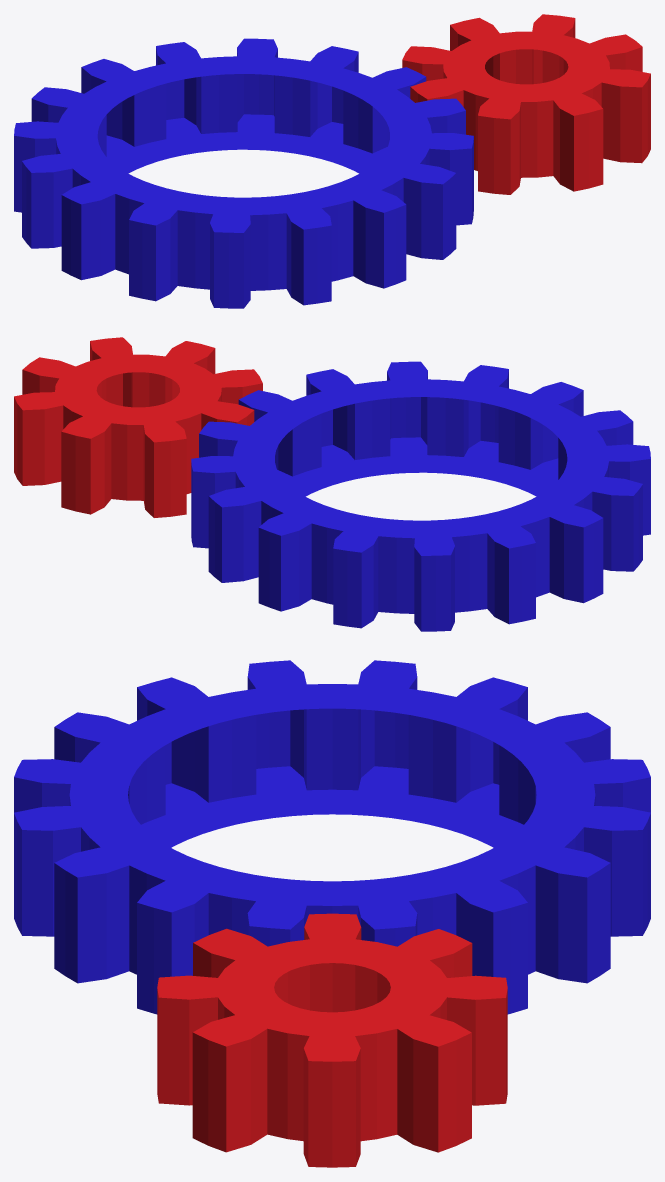
File: engranes.glb
3 renders of one model, top to bottom at view 1: azimuth 30°, elevation 25°; view 2: azimuth 150°, elevation 25°; view 3: azimuth 270°, elevation 25°, orthographic. The views are drawn at different scales.
Parts seen in each view (by area): view 1: Gear, Gear.001; view 2: Gear, Gear.001; view 3: Gear, Gear.001.
Part boxes in pixels (box(x1,y1,x2,y2)): Gear: box(14, 38, 473, 308); Gear.001: box(402, 14, 650, 194); Gear: box(191, 361, 650, 631); Gear.001: box(14, 337, 262, 517); Gear: box(14, 660, 650, 1014); Gear.001: box(157, 913, 507, 1167).
Size of the model in its own units: 3.25 by 0.4 by 2.18.
